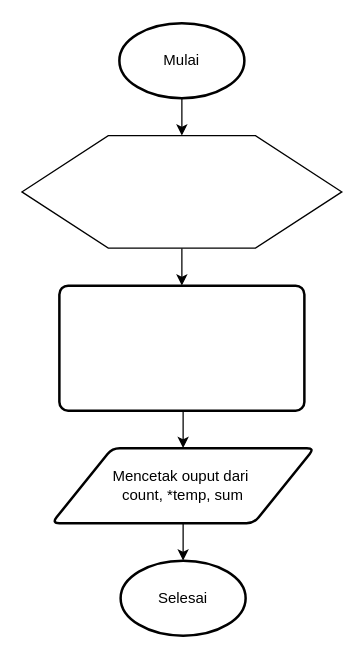
Some shapes in this 364 by 658 pixel diagram are drawn without their labels. The centre of each missing label's shape, as x and y in pixels:
"Mebgubah nilai variabel dan mengkalikan nilai variabelnya" belongs at (181,347).
"Mendeklarasikan variabel count, *temp, sum" belongs at (181,191).
